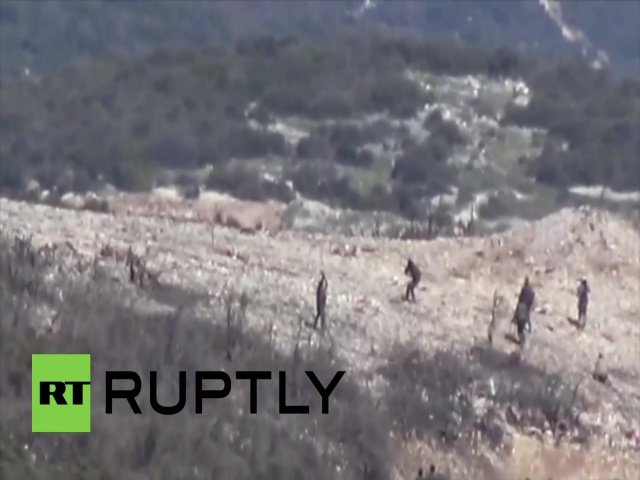person: (311, 271, 333, 332), (401, 257, 423, 303), (518, 275, 535, 325), (514, 297, 530, 350), (575, 280, 591, 330)
